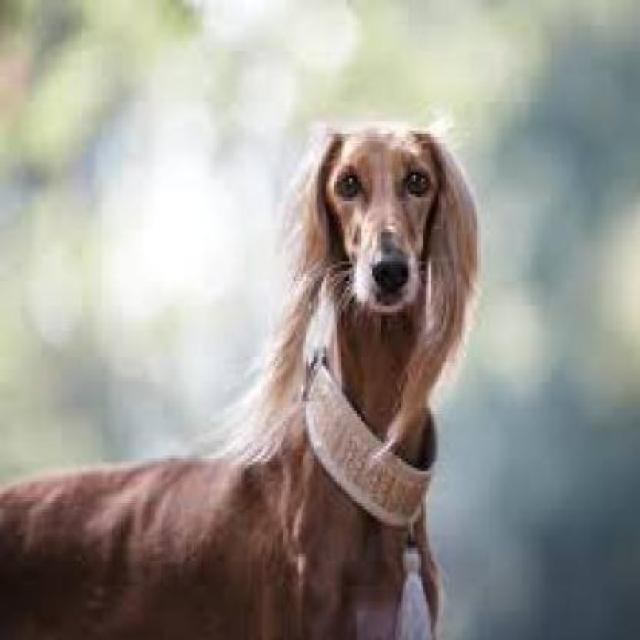animals: (4, 95, 602, 640)
